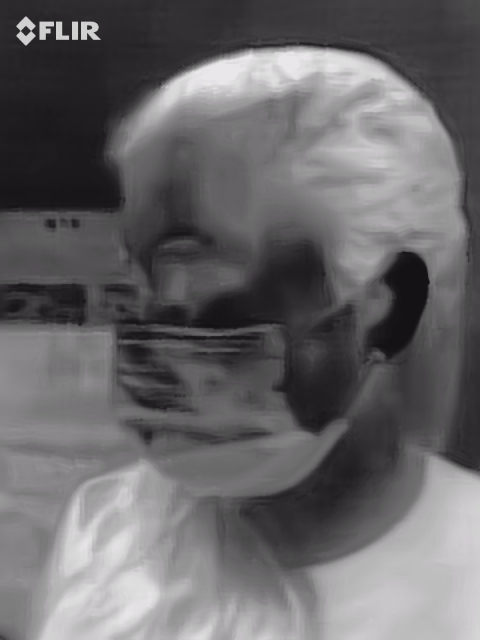head: (103, 43, 469, 501)
